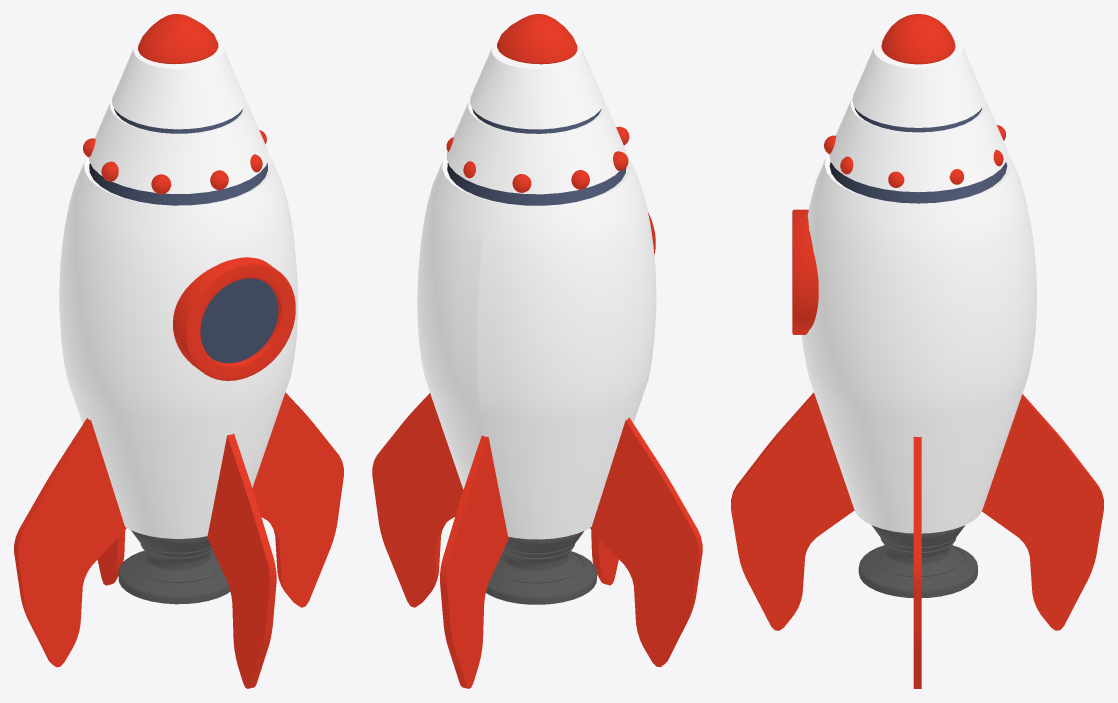
File: rocket_idle_anim.glb
3 views of the same model, side by side, from view 1: azimuth 30°, elevation 25°; view 2: azimuth 150°, elevation 25°; view 3: azimuth 270°, elevation 25° (orthographic).
Parts seen in each view (by area): view 1: rocket 2; view 2: rocket 2; view 3: rocket 2.
Boxes of the visible parts, left/top/right/bottom form: rocket 2: left=14, top=14, right=343, bottom=688; rocket 2: left=372, top=14, right=702, bottom=688; rocket 2: left=731, top=14, right=1103, bottom=688.
Size of the model in its own units: 38.05 by 69.02 by 38.05.
